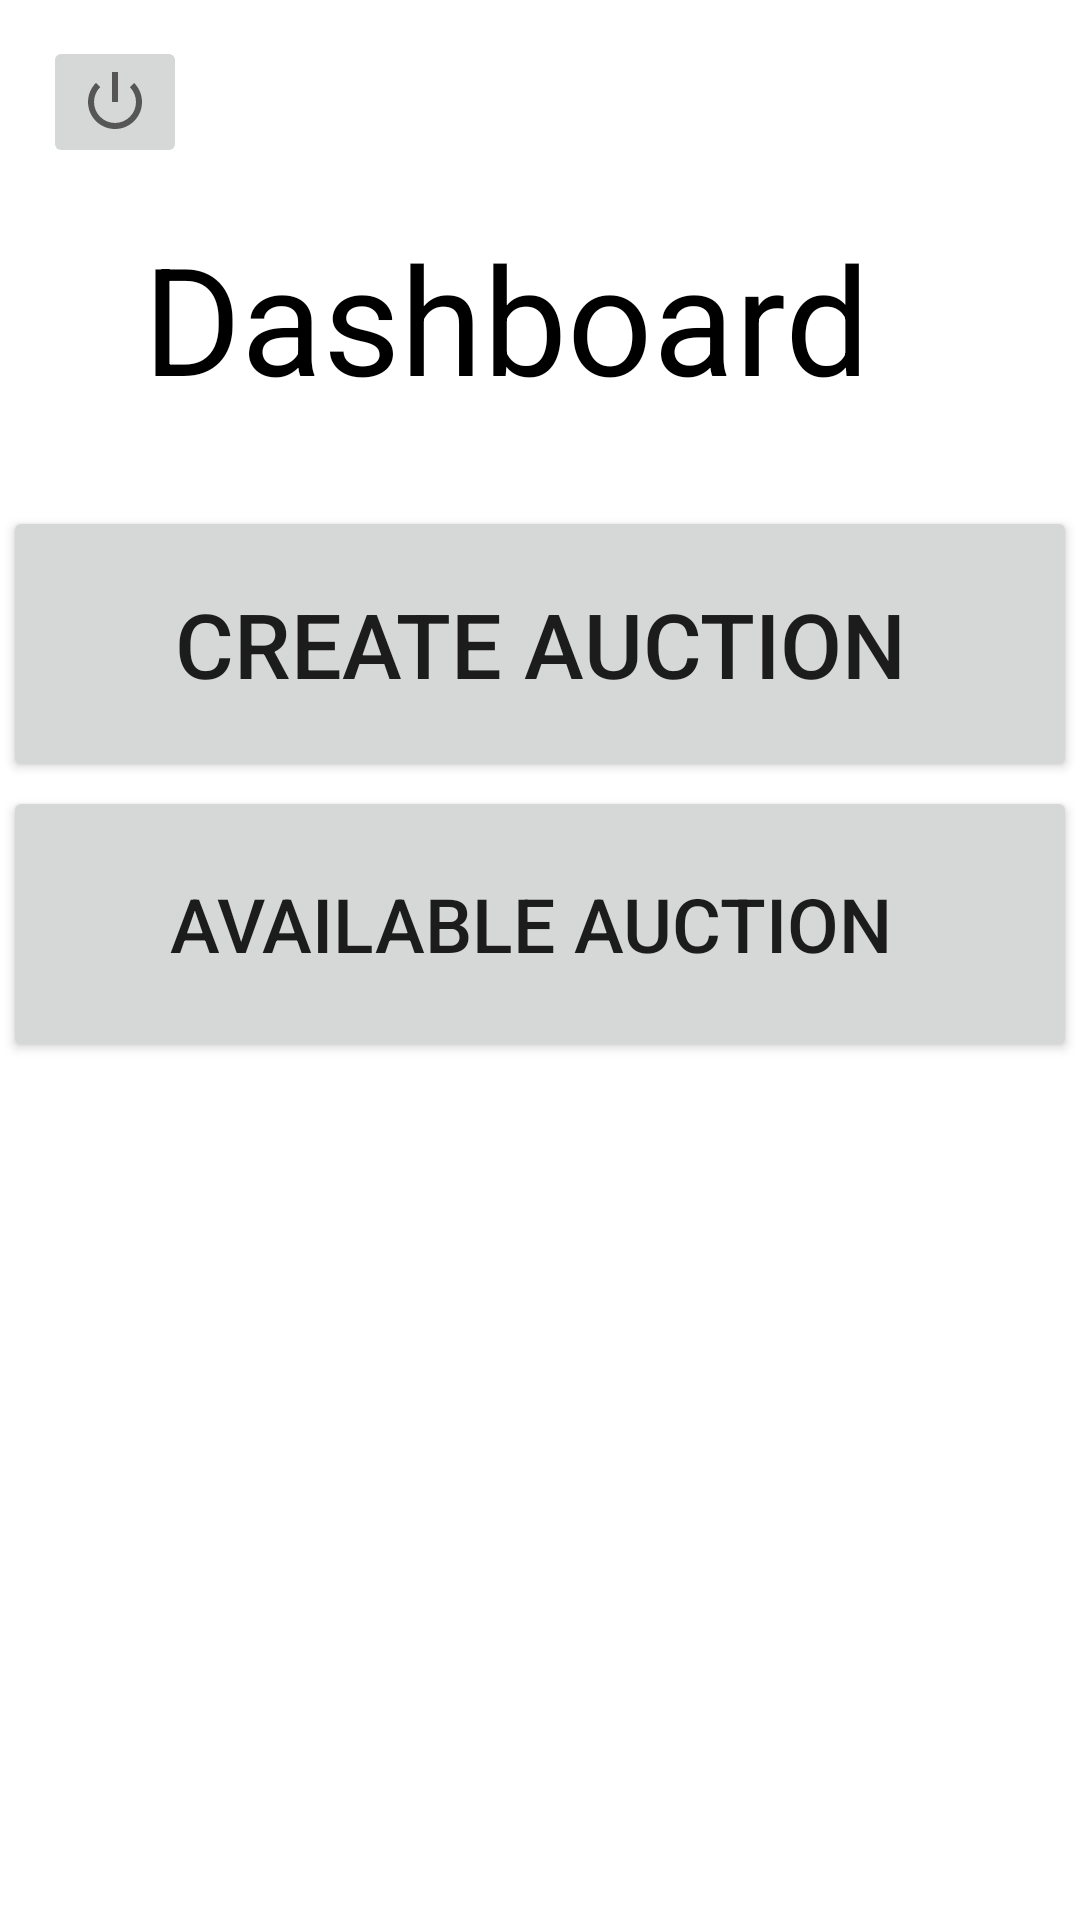

Screen size 1080*1920. Icon name, then its box in pixels as [x1=x1, y1=y1, x2=x2, y2=y2]:
lock power off: [x1=55, y1=54, x2=175, y2=150]
